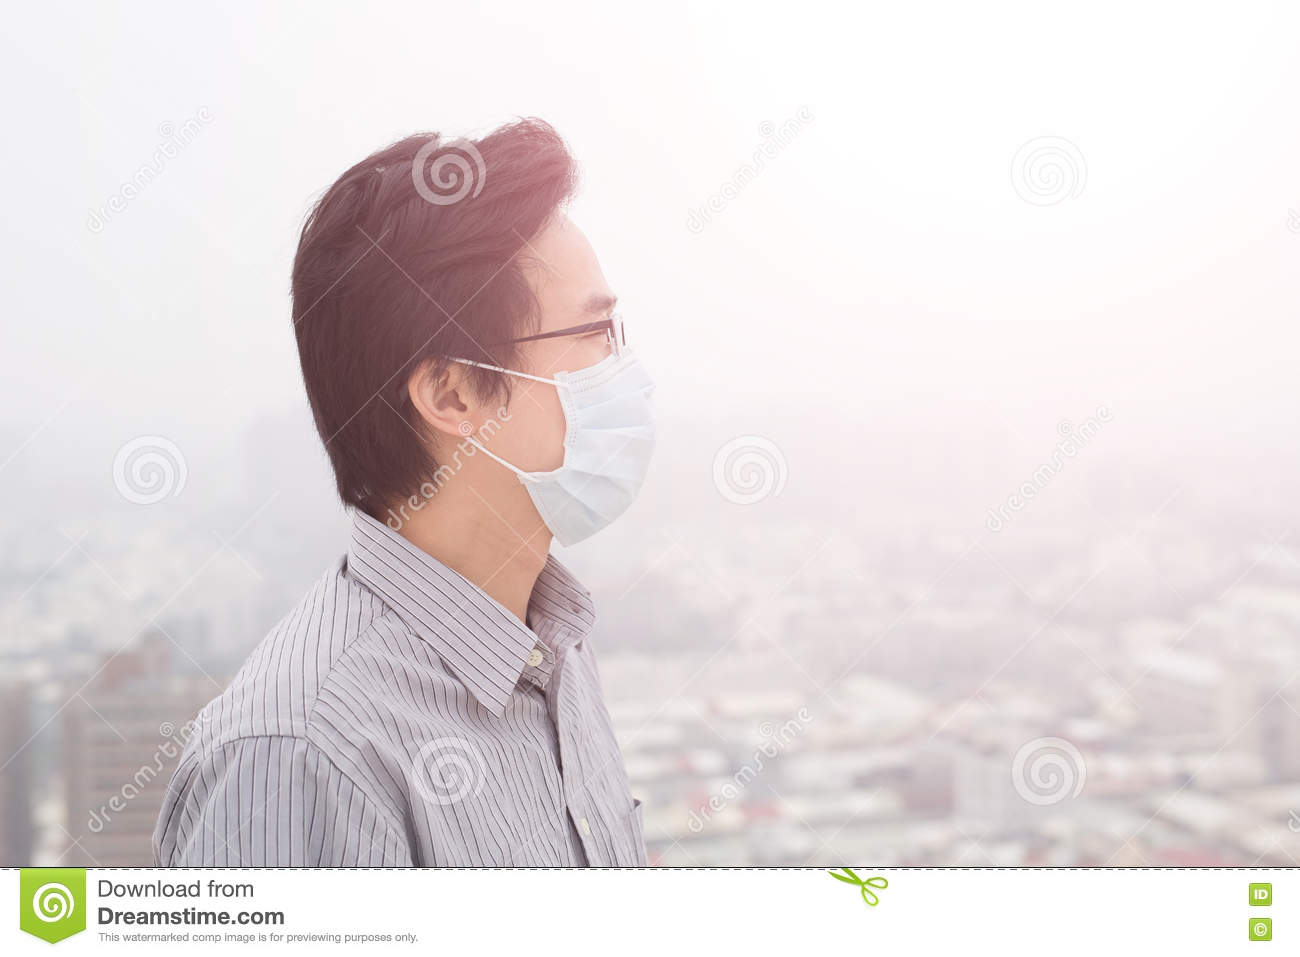mask: (535, 358, 675, 538)
